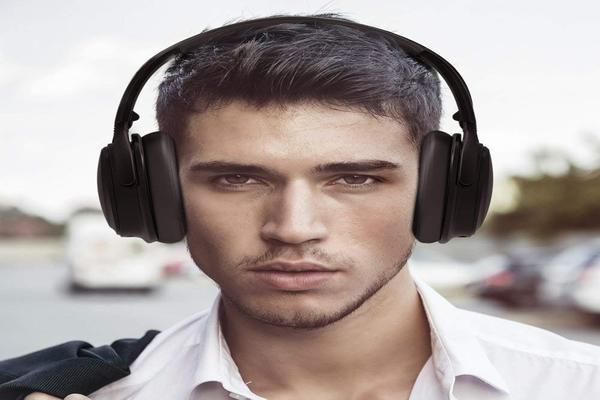headphone: (57, 1, 550, 271)
